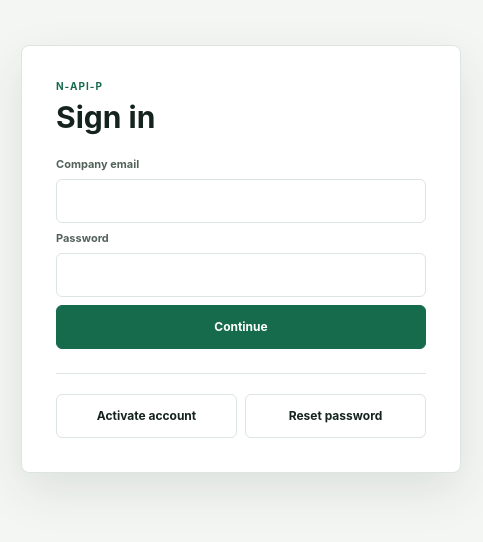
Test: keeps rejected credentials on the generic sign-in error
Expected: the heading "Sign in" is shown, [56,99,155,135]
Type "employee@example.internal" into the field labelled "Company email" at {"x": 241, "y": 201}, box [56,179,426,223]
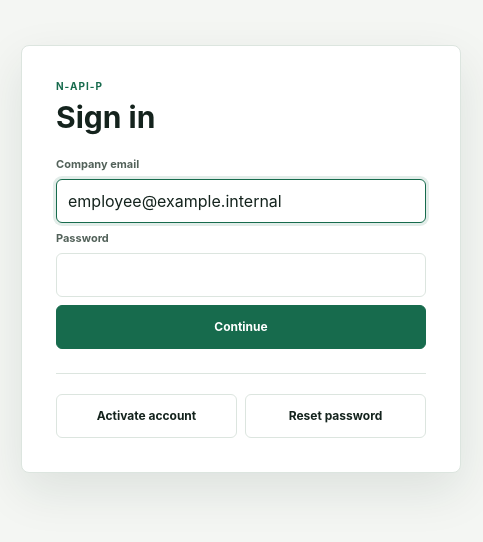
Type "synthetic-password" into the password field labelled "Password" at {"x": 241, "y": 275}, box [56,253,426,297]
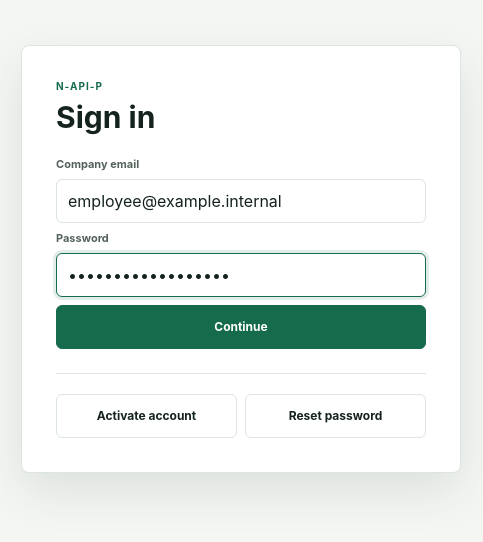
Click the button "Continue" at {"x": 241, "y": 327}, box [56,305,426,349]
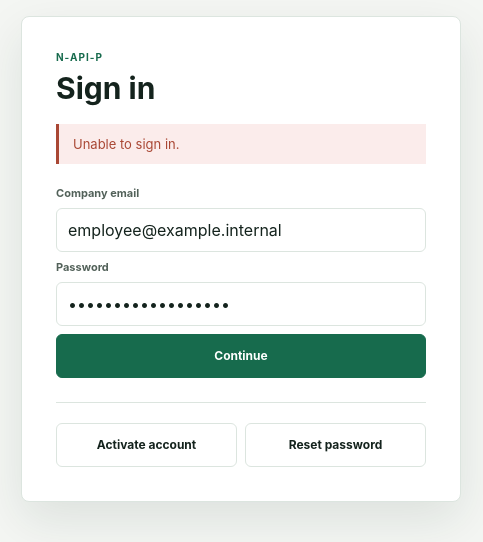
Now the message reads "Unable to sign in.", box [73,136,180,152]
